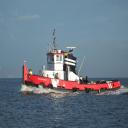tugboat: (23, 46, 123, 98)
